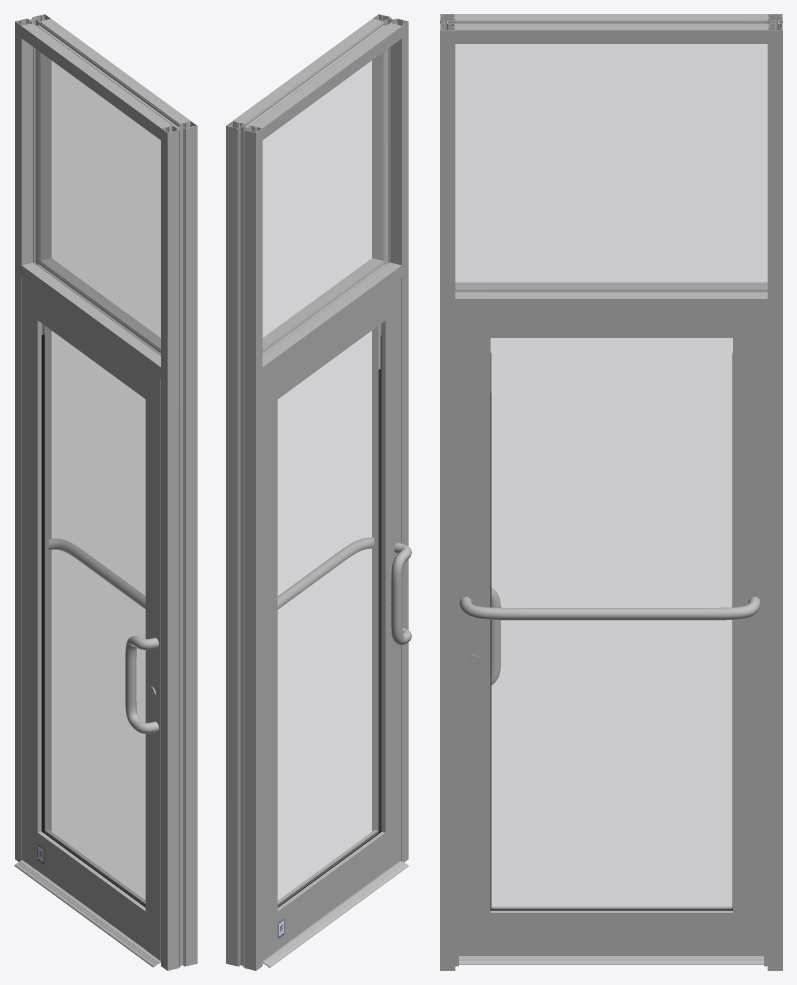
The model's file is Transomed_D350_Single_Animated_AL.glb.
3 renders of one model, left to right at view 1: azimuth 30°, elevation 25°; view 2: azimuth 150°, elevation 25°; view 3: azimuth 270°, elevation 25°, orthographic. The views are drawn at different scales.
Parts seen in each view (by area): view 1: Cube.010, Cube.001, PROFILE_curve_.018, PROFILE_curve_.023, D350, PROFILE_curve_.019, PROFILE_curve_.063, PROFILE_curve_.062, PROFILE_curve_.061, PROFILE_curve_.001, PROFILE_curve_.014, PROFILE_curve_.002 (+6 smaller); view 2: Cube.010, Cube.001, PROFILE_curve_.022, PROFILE_curve_.019, PROFILE_curve_.063, PROFILE_curve_.023, D350, PROFILE_curve_.062, PROFILE_curve_.061, PROFILE_curve_.001, PROFILE_curve_.014, PROFILE_curve_.002 (+6 smaller); view 3: Cube.010, Cube.001, PROFILE_curve_.063, D350, PROFILE_curve_.023, PROFILE_curve_.019, PROFILE_curve_.062, PROFILE_curve_.061, PROFILE_curve_.008, PROFILE_curve_.002, PROFILE_curve_.014, PROFILE_curve_.001 (+6 smaller).
Part boxes in pixels (left/top/right/bottom): Cube.010: left=42, top=324, right=145, bottom=905; Cube.001: left=34, top=48, right=160, bottom=354; PROFILE_curve_.018: left=170, top=126, right=194, bottom=969; PROFILE_curve_.023: left=15, top=14, right=51, bottom=861; D350: left=22, top=278, right=48, bottom=870; PROFILE_curve_.019: left=161, top=121, right=197, bottom=970; PROFILE_curve_.063: left=145, top=369, right=160, bottom=960; PROFILE_curve_.062: left=37, top=830, right=145, bottom=949; PROFILE_curve_.061: left=37, top=289, right=145, bottom=398; PROFILE_curve_.001: left=25, top=19, right=187, bottom=127; PROFILE_curve_.014: left=25, top=259, right=160, bottom=363; PROFILE_curve_.002: left=21, top=19, right=190, bottom=139; Cube.010: left=278, top=324, right=381, bottom=906; Cube.001: left=263, top=48, right=388, bottom=354; PROFILE_curve_.022: left=229, top=126, right=252, bottom=969; PROFILE_curve_.019: left=372, top=14, right=408, bottom=862; PROFILE_curve_.063: left=374, top=278, right=401, bottom=870; PROFILE_curve_.023: left=226, top=121, right=262, bottom=970; D350: left=262, top=369, right=277, bottom=960; PROFILE_curve_.062: left=277, top=830, right=385, bottom=949; PROFILE_curve_.061: left=277, top=290, right=385, bottom=398; PROFILE_curve_.001: left=236, top=19, right=398, bottom=127; PROFILE_curve_.014: left=262, top=259, right=398, bottom=363; PROFILE_curve_.002: left=233, top=19, right=401, bottom=139; Cube.010: left=491, top=338, right=732, bottom=910; Cube.001: left=455, top=44, right=767, bottom=291; PROFILE_curve_.063: left=459, top=312, right=490, bottom=955; D350: left=733, top=312, right=763, bottom=955; PROFILE_curve_.023: left=767, top=14, right=782, bottom=970; PROFILE_curve_.019: left=440, top=14, right=455, bottom=970; PROFILE_curve_.062: left=490, top=906, right=732, bottom=955; PROFILE_curve_.061: left=490, top=312, right=732, bottom=337; PROFILE_curve_.008: left=455, top=282, right=767, bottom=312; PROFILE_curve_.002: left=455, top=14, right=767, bottom=43; PROFILE_curve_.014: left=455, top=284, right=767, bottom=297; PROFILE_curve_.001: left=455, top=15, right=767, bottom=28.
Size of the model in its own units: 0.2107 by 3.05 by 1.01.
Materials: 6 (1 with a texture image).
